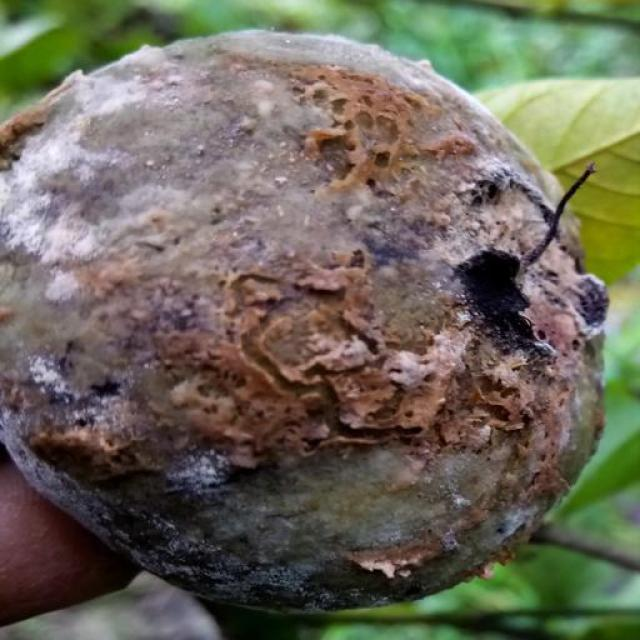Phytopthora: (0, 32, 608, 610)
